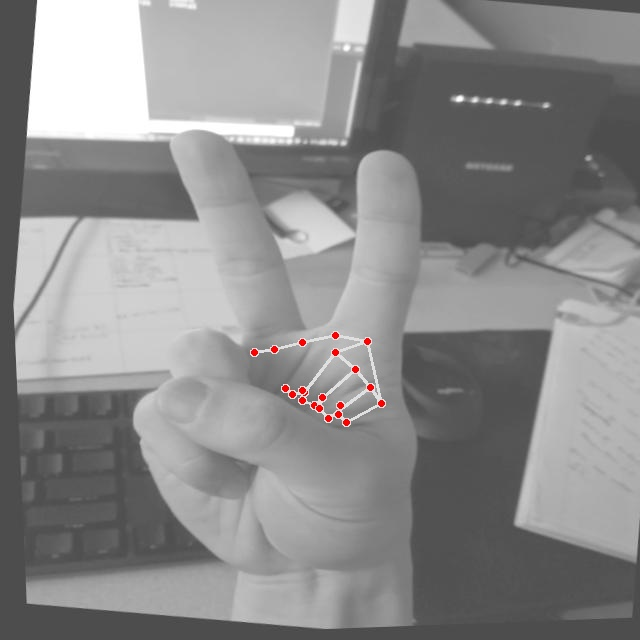V: (90, 107, 470, 607)
